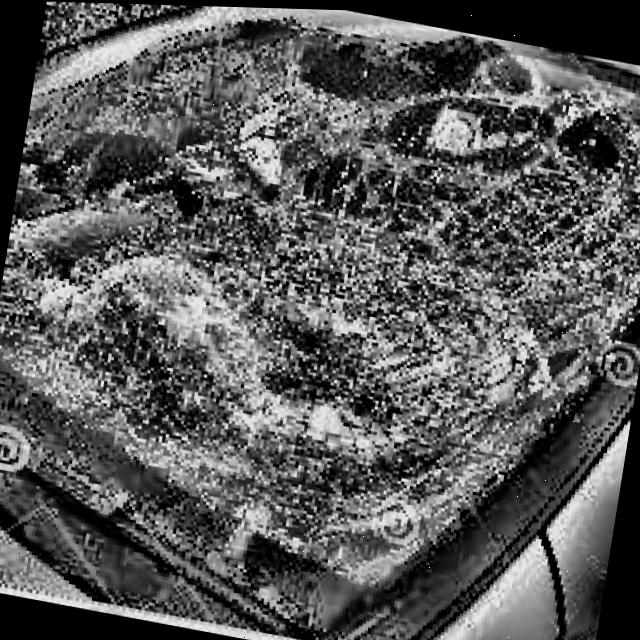glass_shatter: (121, 58, 620, 502)
